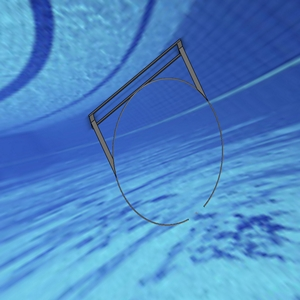circle: (87, 36, 224, 226)
